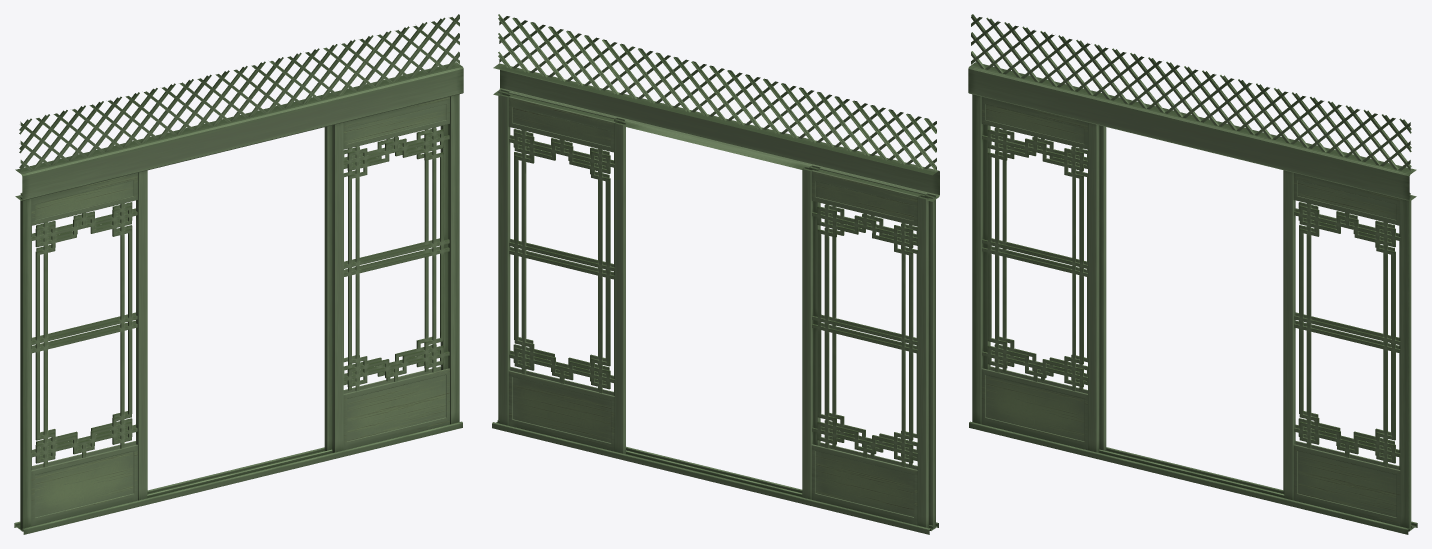
File: TraditionalKoreanHouse_Door.fbx
The picture shows the model from 3 angles, left to right: view 1: azimuth 30°, elevation 25°; view 2: azimuth 150°, elevation 25°; view 3: azimuth 330°, elevation 25°; orthographic projection.
Visible parts, largest first — view 1: TraditionalKoreanHouse_Door; view 2: TraditionalKoreanHouse_Door; view 3: TraditionalKoreanHouse_Door.
Part boxes in pixels (left/top/right/bottom): TraditionalKoreanHouse_Door: left=14, top=14, right=463, bottom=534; TraditionalKoreanHouse_Door: left=492, top=14, right=939, bottom=534; TraditionalKoreanHouse_Door: left=968, top=14, right=1417, bottom=534.
Size of the model in its own units: 285 by 253 by 10.54.
